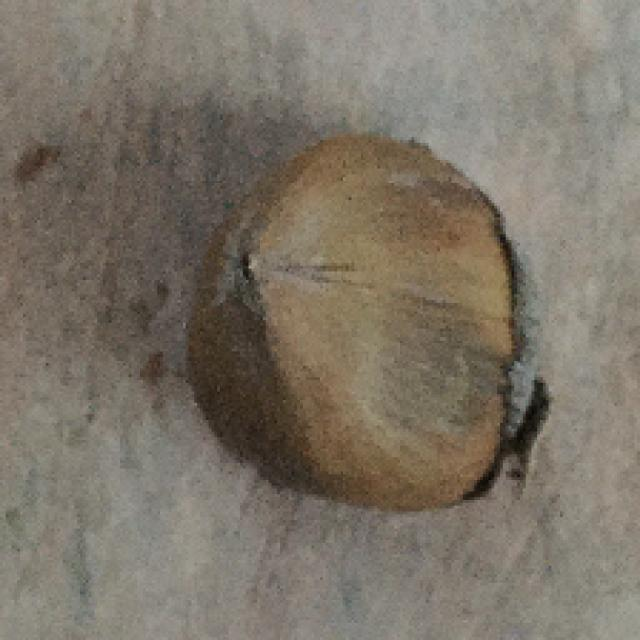damagedHazelnut: (189, 124, 547, 526)
